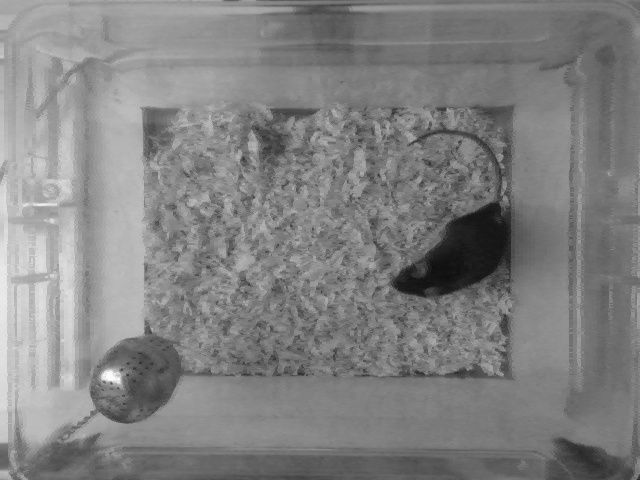mice: (387, 124, 511, 300)
